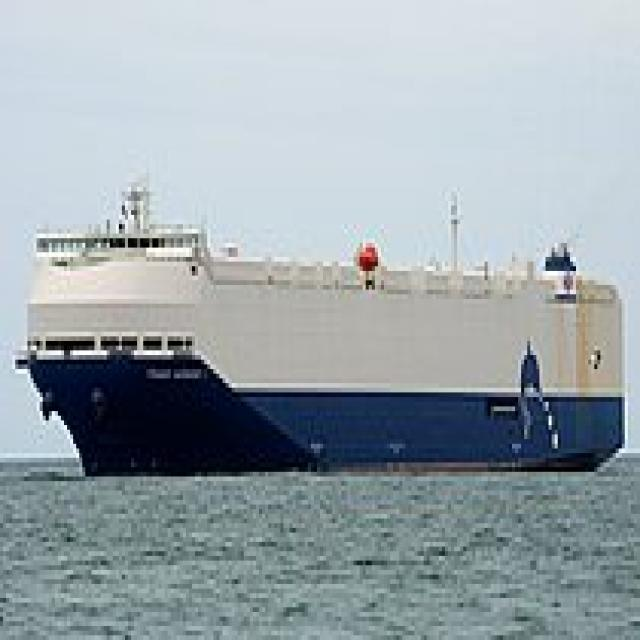Carrier: (9, 173, 625, 476)
